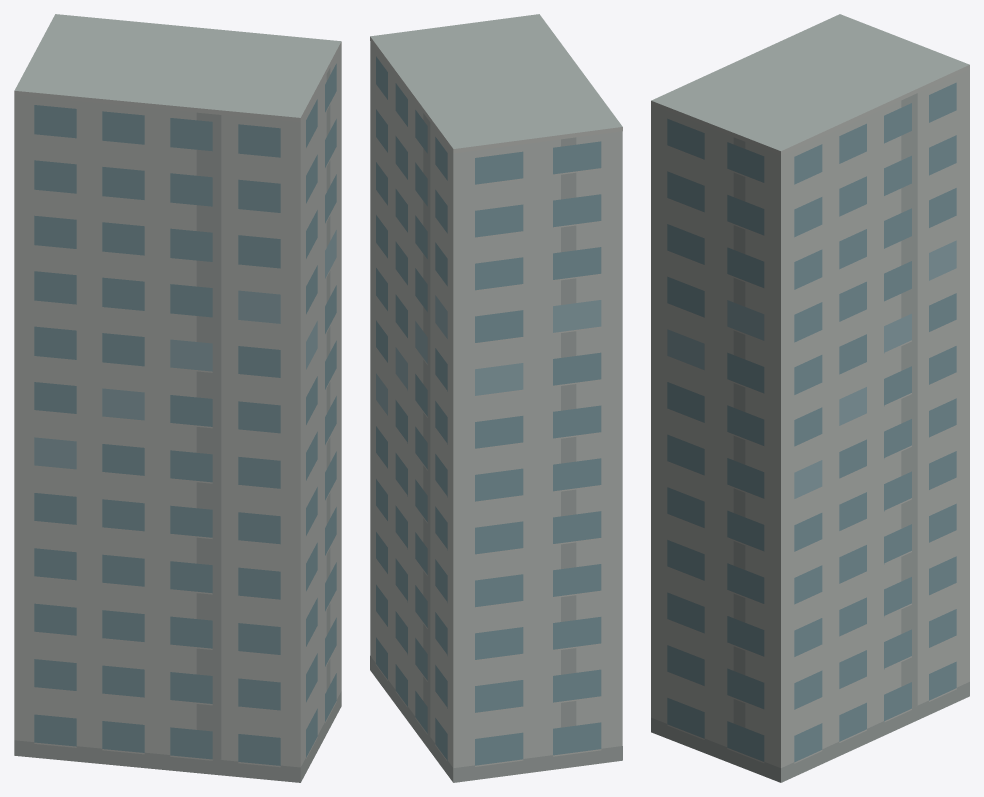
File: residential-4459f0dc-ba55-4ac5-82a5-95965778d2b7.glb
3 renders of one model, left to right at view 1: azimuth 30°, elevation 25°; view 2: azimuth 150°, elevation 25°; view 3: azimuth 270°, elevation 25°, orthographic. The views are drawn at different scales.
Parts seen in each view (by area): view 1: residential-4459f0dc-ba55-4ac5-82a5-95965778d2b7.tmp; view 2: residential-4459f0dc-ba55-4ac5-82a5-95965778d2b7.tmp; view 3: residential-4459f0dc-ba55-4ac5-82a5-95965778d2b7.tmp.
Part boxes in pixels (x1=…): residential-4459f0dc-ba55-4ac5-82a5-95965778d2b7.tmp: x1=14, y1=14, x2=341, y2=782; residential-4459f0dc-ba55-4ac5-82a5-95965778d2b7.tmp: x1=370, y1=14, x2=622, y2=782; residential-4459f0dc-ba55-4ac5-82a5-95965778d2b7.tmp: x1=651, y1=14, x2=969, y2=782.
Size of the model in its own units: 16.32 by 35 by 16.02.
